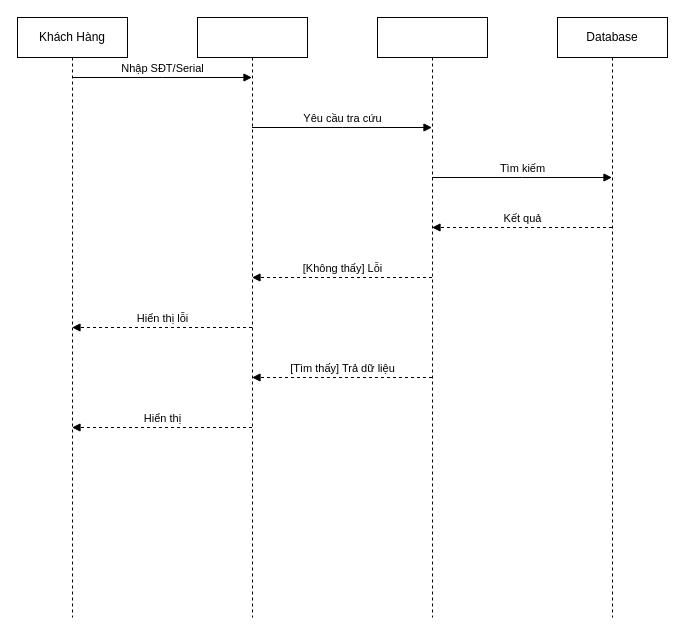
Image size: 685x635. Some labels were removed from this diagram. The shapes that lost their labels are listed below. From the top down, each one's box as (x1, y1, x2, y2) in pixels, then its label:
(196, 16, 308, 618): Frontend
(376, 16, 488, 618): Backend
